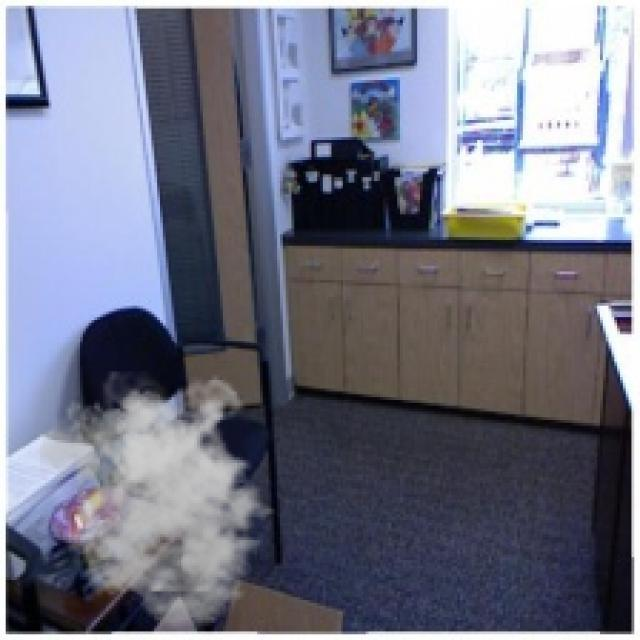Smoke: (40, 372, 286, 628)
